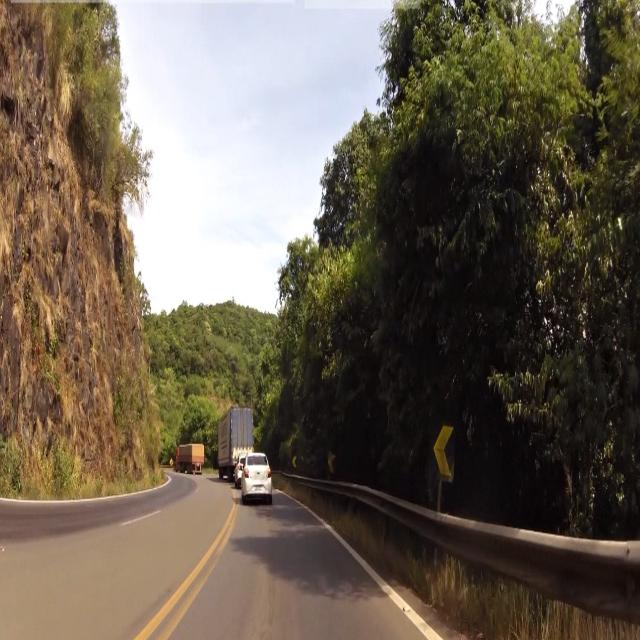Del: (431, 412, 456, 486), (325, 448, 339, 474)
